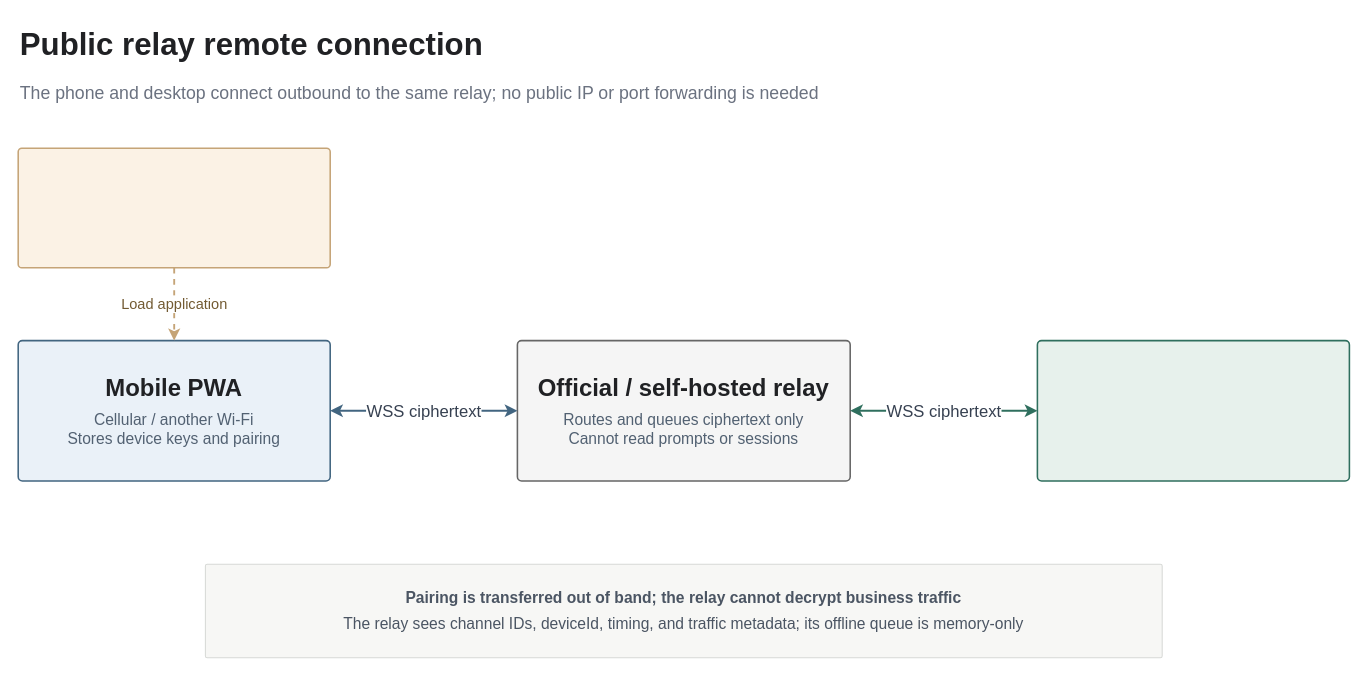
Some shapes in this 1369 by 676 pixel diagram are drawn without their labels. The centre of each missing label's shape, as x and y in pixels:
"Desktop Spcod Stays running and online Connects outbound to the relay" goes at (x=1193, y=410).
"Static PWA source Desktop LAN address or your own HTTPS hosting" goes at (x=174, y=207).
